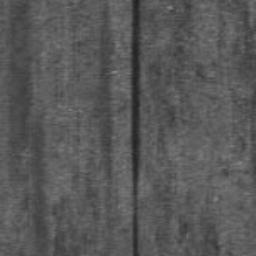Scratches: (131, 0, 139, 256)
